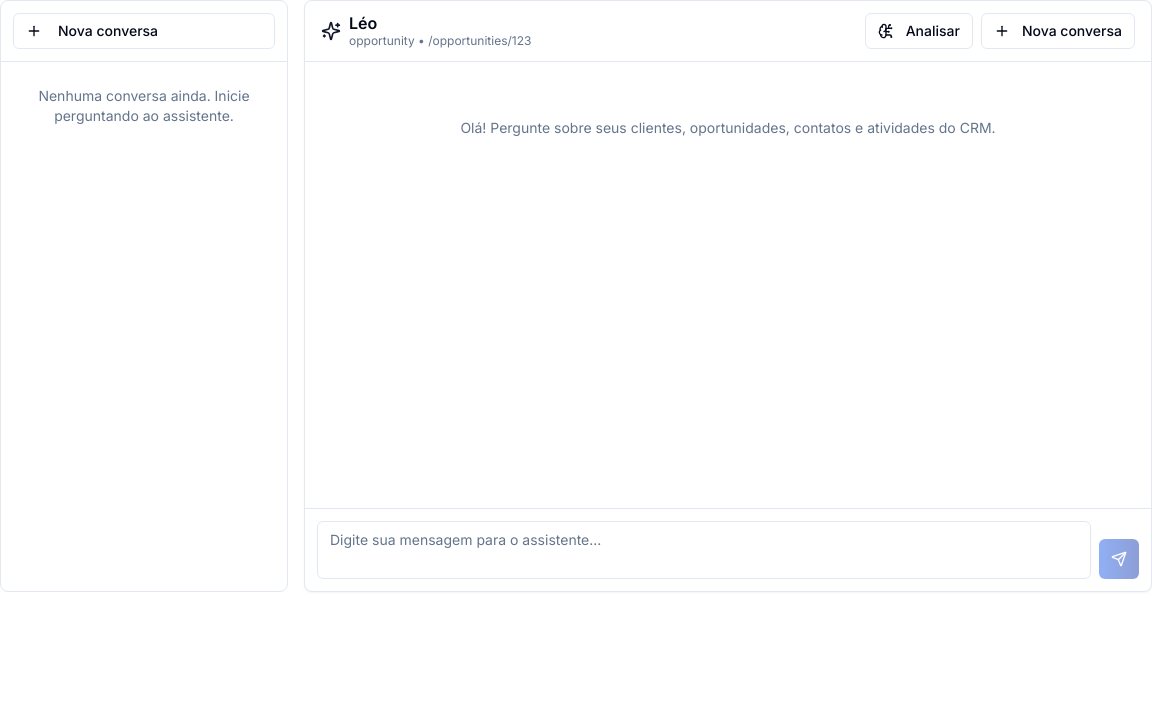
it: AiChatAssistant análise contextual (AI-06) › exibe erro amigável quando a análise falha (sem stack trace)
This screenshot has width=1152, height=720.
Click the button with aria-label "Analisar o registro atual" at (919,31), box [865, 13, 973, 49]
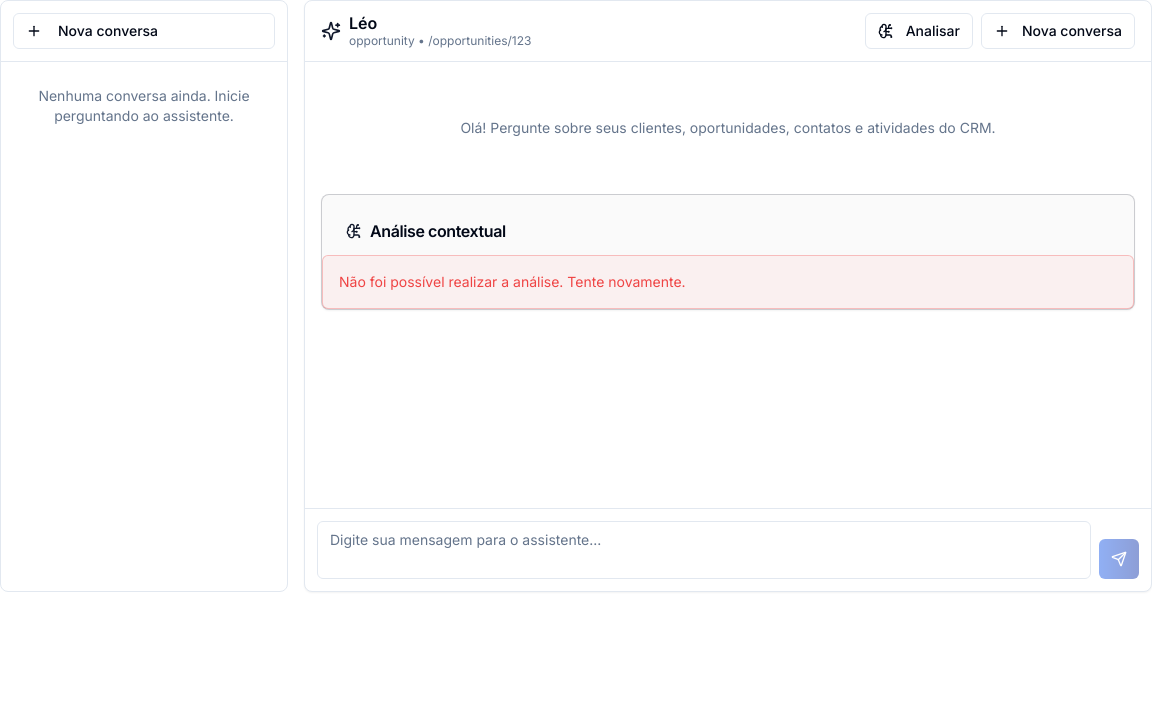
Now the text "Não foi possível realizar a análise. Tente novamente." is shown, box [322, 255, 1134, 309]
